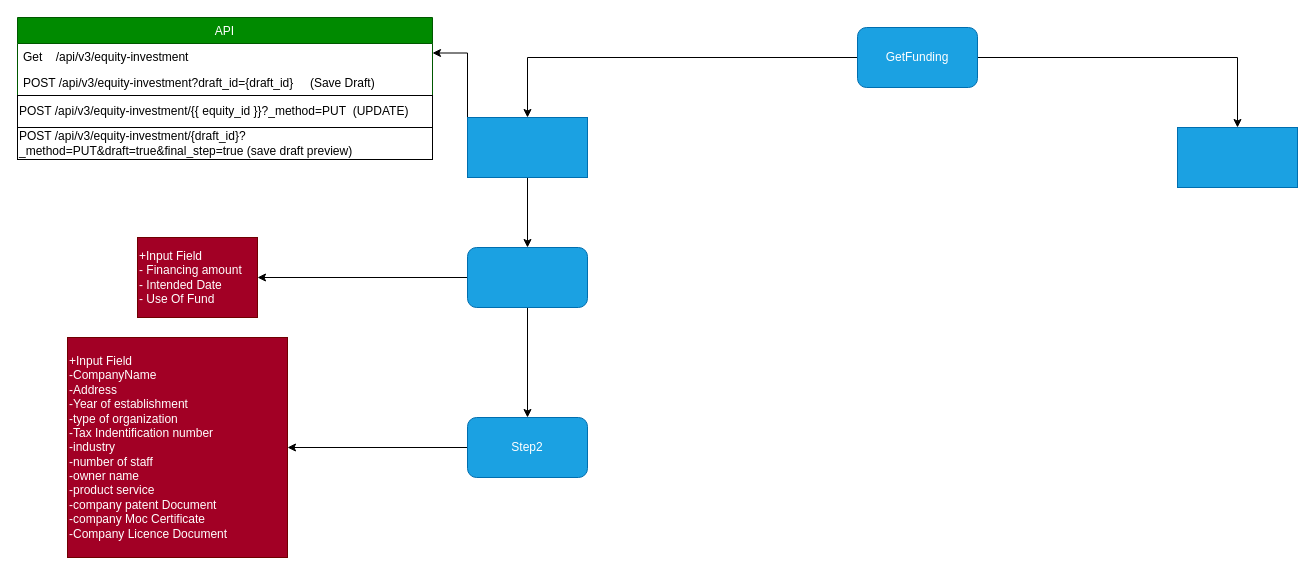
Image size: 1315x575. Some labels were removed from this diagram. Here are the shapes that lost their labels. From the top down, the box of each, then its label:
(466, 116, 588, 178): Equity Investment
(1176, 126, 1298, 188): Debt Investment
(466, 246, 588, 308): Step1
